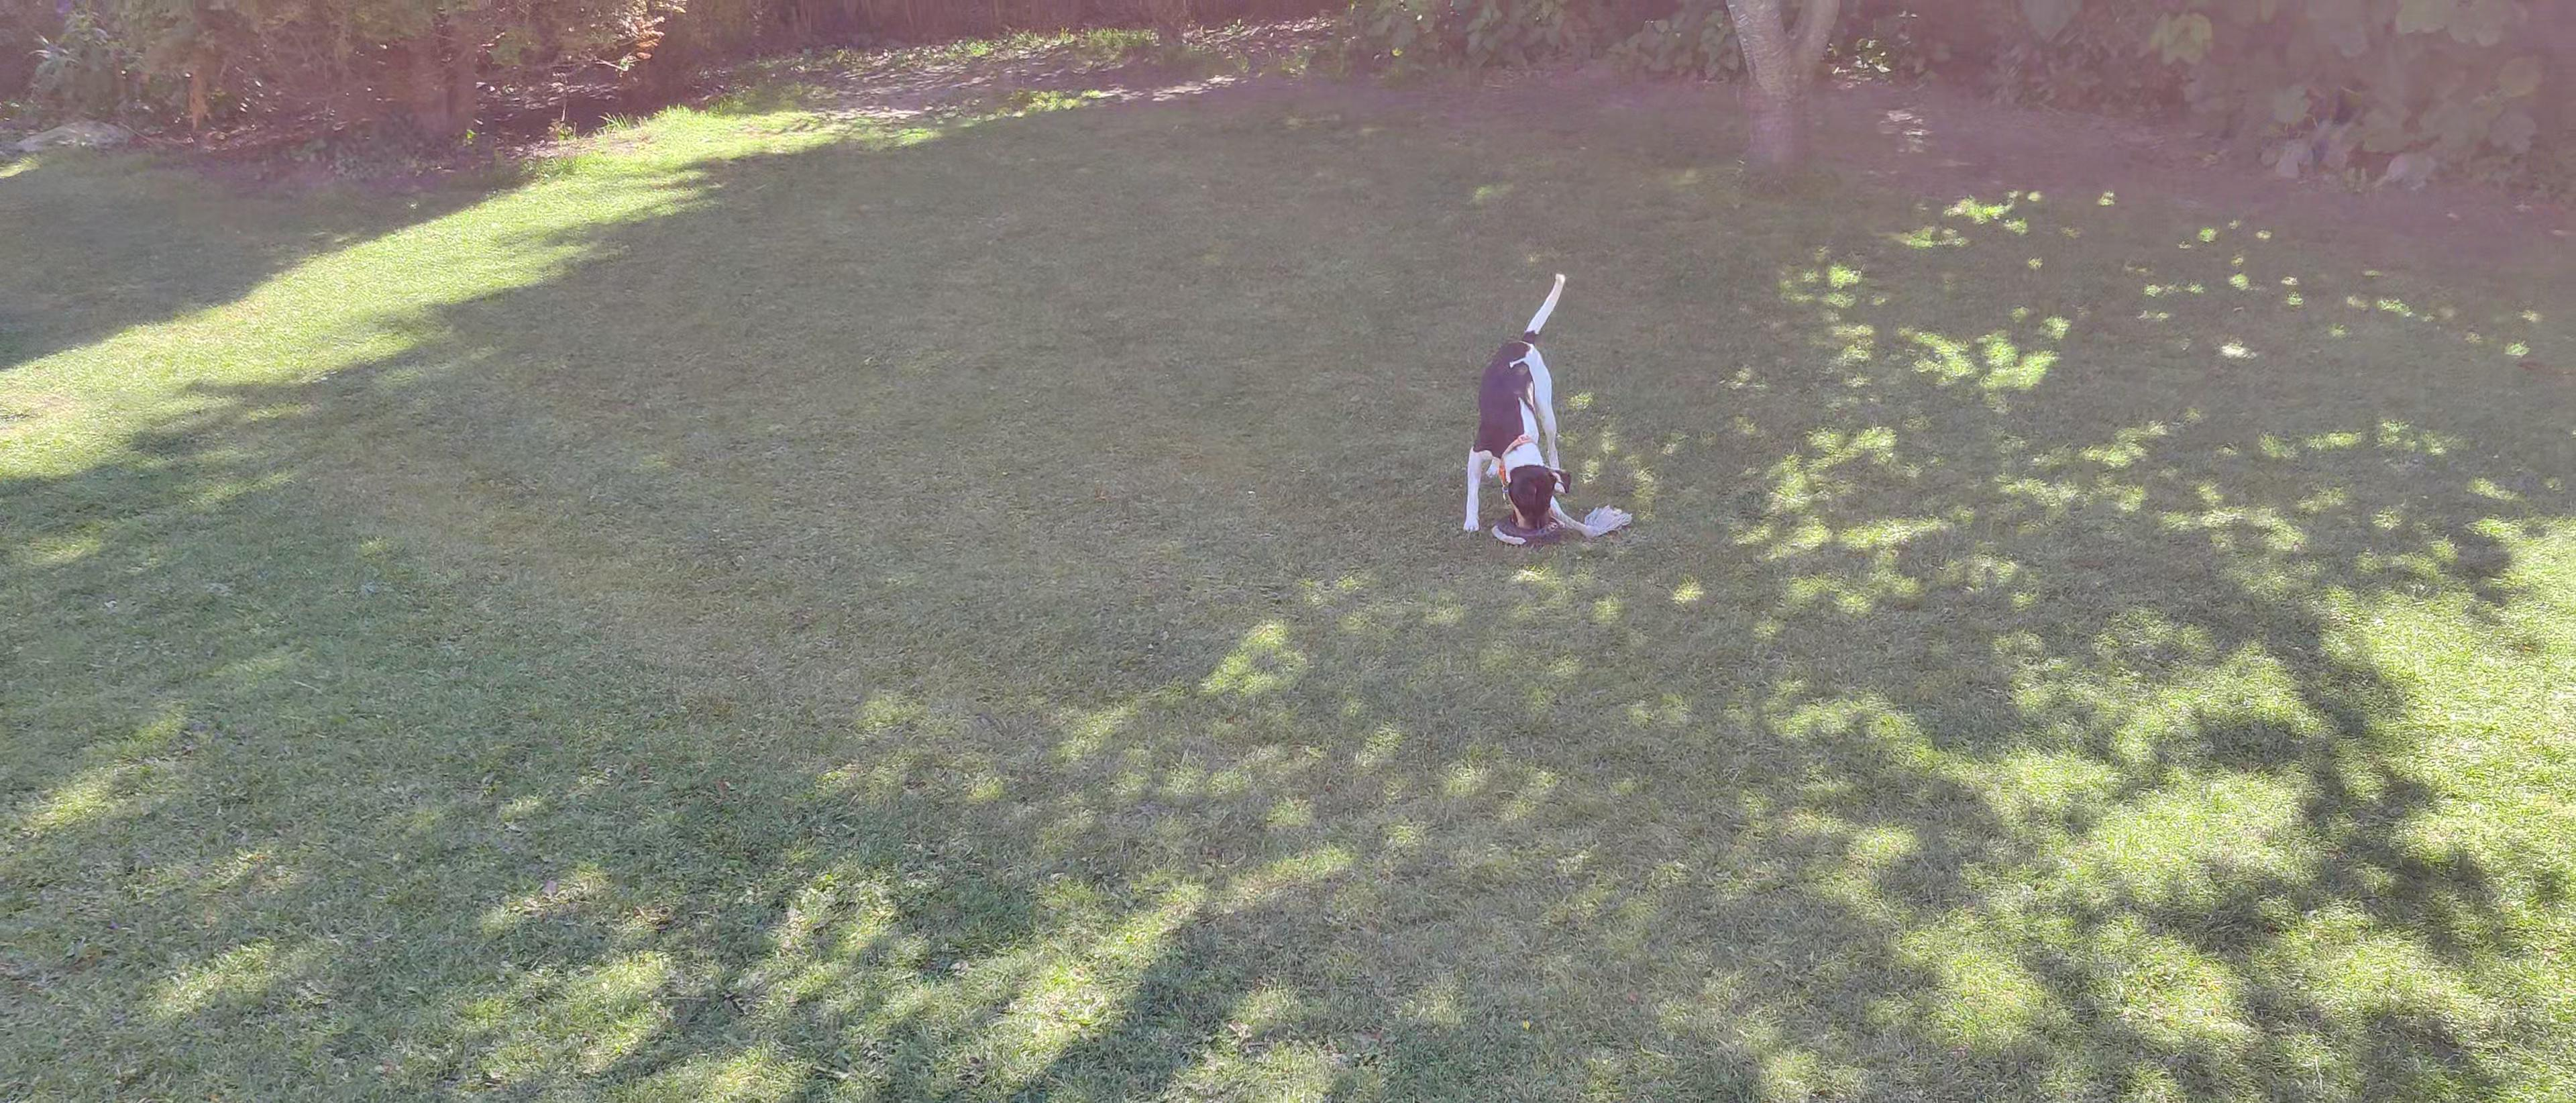Dog: (1446, 253, 1587, 541)
